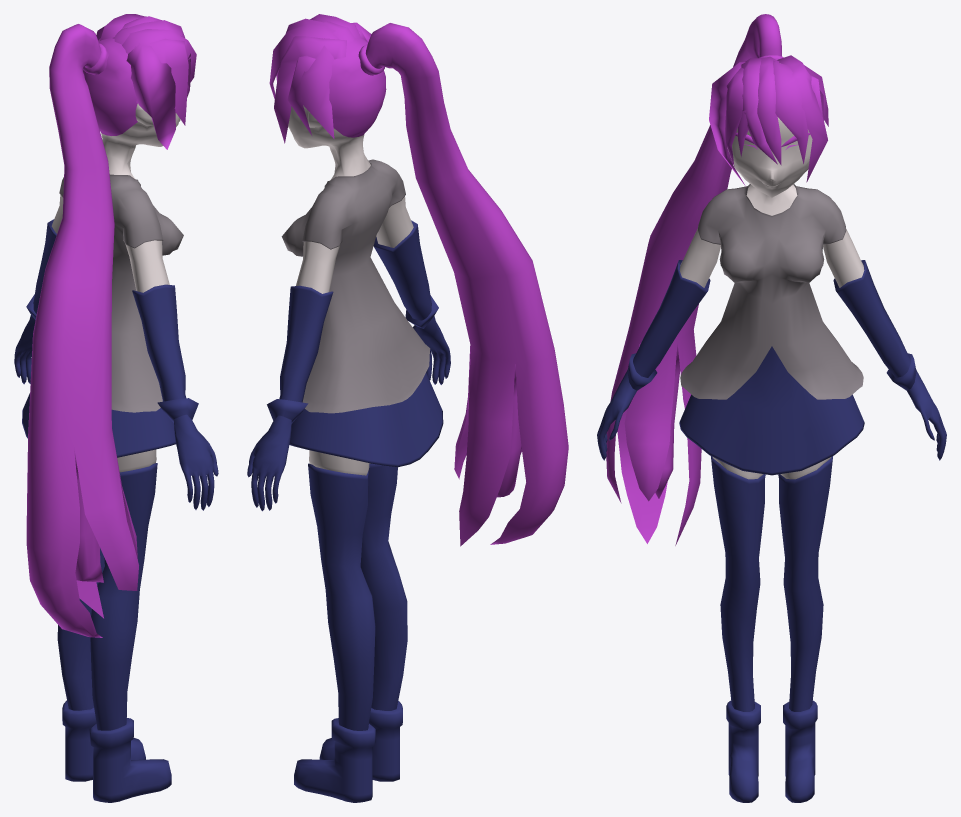
The model's file is tREEmc.fbx.
The picture shows the model from 3 angles, left to right: view 1: azimuth 30°, elevation 25°; view 2: azimuth 150°, elevation 25°; view 3: azimuth 270°, elevation 25°; orthographic projection. The views are drawn at different scales.
Parts seen in each view (by area): view 1: Cube, Cube.004, Cube.009, Cube.005, Cube.010, Cube.001, Cube.011, Cube.000; view 2: Cube, Cube.004, Cube.009, Cube.005, Cube.000, Cube.010, Cube.001, Cube.011; view 3: Cube.009, Cube.004, Cube, Cube.000, Cube.005, Cube.010, Cube.001.
Boxes of the visible parts, <box> form: Cube: <box>26,24,138,637</box>; Cube.004: <box>57,463,171,802</box>; Cube.009: <box>59,174,183,412</box>; Cube.005: <box>14,219,218,510</box>; Cube.010: <box>96,14,196,149</box>; Cube.001: <box>51,103,180,472</box>; Cube.011: <box>83,38,137,135</box>; Cube.000: <box>22,393,175,457</box>; Cube: <box>358,23,568,546</box>; Cube.004: <box>294,463,407,802</box>; Cube.009: <box>281,159,430,413</box>; Cube.005: <box>247,220,450,511</box>; Cube.000: <box>289,372,443,467</box>; Cube.010: <box>269,14,371,143</box>; Cube.001: <box>288,105,413,475</box>; Cube.011: <box>329,38,386,137</box>; Cube.009: <box>680,184,863,399</box>; Cube.004: <box>711,456,832,802</box>; Cube: <box>606,14,783,545</box>; Cube.000: <box>679,346,864,475</box>; Cube.005: <box>597,260,946,460</box>; Cube.010: <box>709,55,828,186</box>; Cube.001: <box>679,117,864,479</box>.
Size of the model in its own units: 428 by 1406 by 598.
